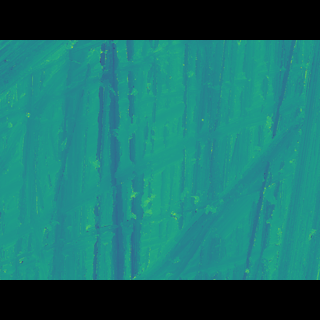Loch: (33, 73, 185, 194)
